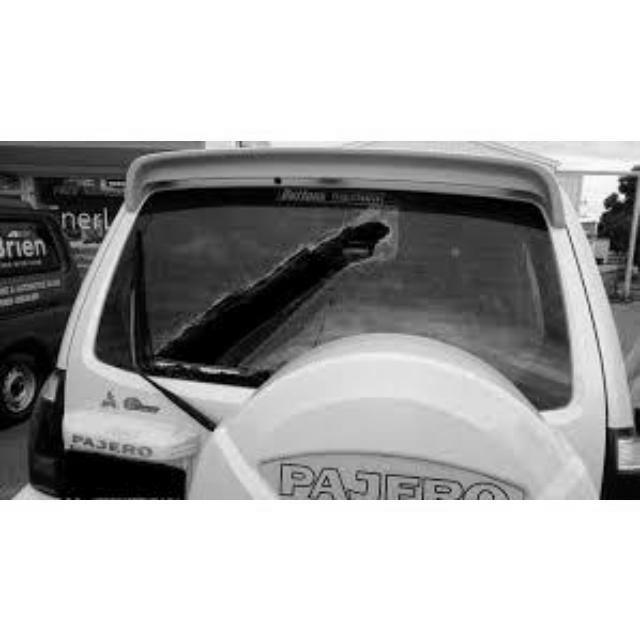Rear-windscreen-Damage: (109, 186, 573, 417)
